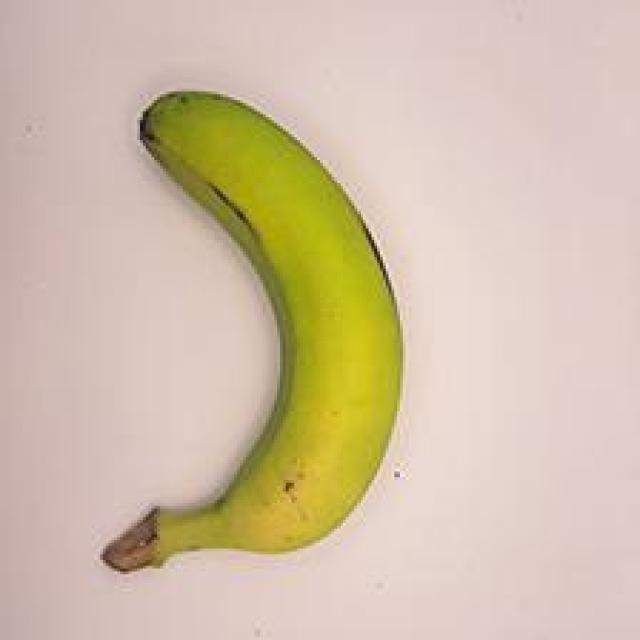Unripe: (73, 38, 417, 607)
